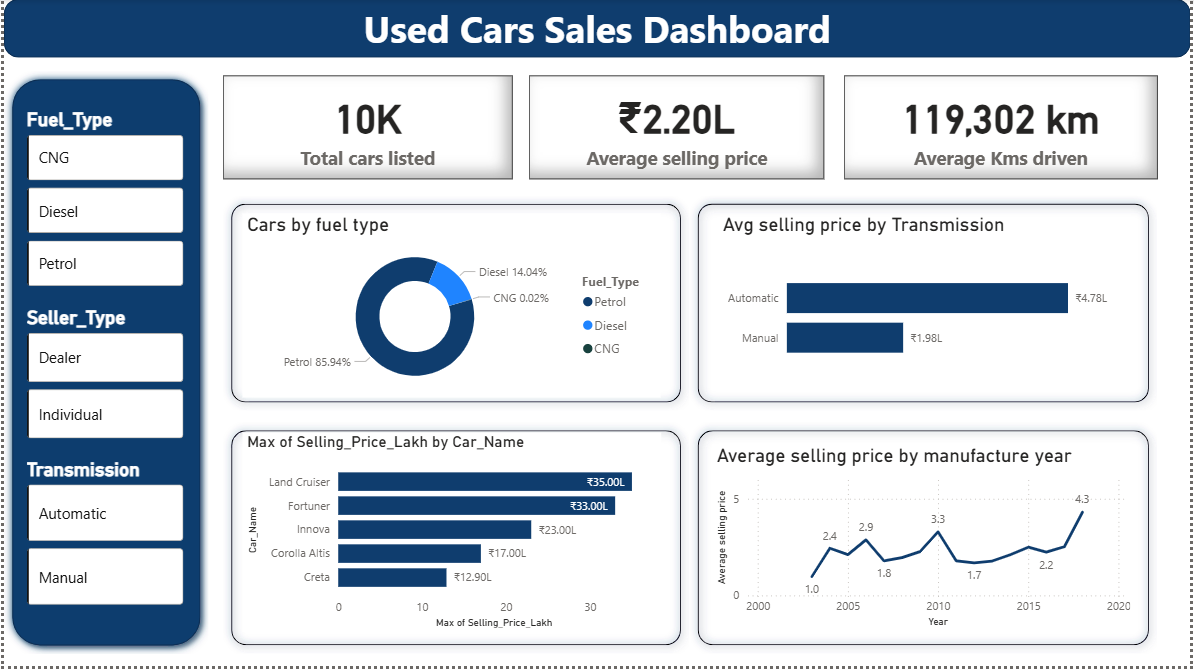

Layout of this report page (visuals, bound fields, positions):
{"tool":"powerbi","page":{"name":"Page 1","canvas":[1280,720],"ordinal":0},"visuals":[{"type":"shape","box":[0,0,1280.8,63.1],"z":0},{"type":"shape","box":[0,77.4,221,629],"z":1000},{"type":"shape","box":[237.1,456.5,503.2,250],"z":2000},{"type":"shape","box":[740.3,456.5,504.8,250],"z":3000},{"type":"shape","box":[237.1,212.9,503.2,232.3],"z":4000},{"type":"shape","box":[740.3,212.9,504.8,232.3],"z":5000},{"type":"card","fields":{"Values":["cars_updated_dataset.Total cars listed"]},"box":[236.4,82.6,312.5,111.7],"z":6000},{"type":"card","fields":{"Values":["cars_updated_dataset.Average Kms driven"]},"box":[906.8,82.6,338.4,111.7],"z":7000},{"type":"donutChart","title":"Cars by fuel type","fields":{"Y":["CountNonNull(cars_updated_dataset.Car_Name)"],"Category":["cars_updated_dataset.Fuel_Type"]},"box":[258.1,232.3,451.6,198.4],"z":8000},{"type":"card","fields":{"Values":["cars_updated_dataset.Average selling price"]},"box":[566.7,82.6,319,111.7],"z":9000},{"type":"lineChart","title":"Average selling price by manufacture year","fields":{"Category":["cars_updated_dataset.Manufacture_Year"],"Y":["Avg(cars_updated_dataset.Selling_Price_Lakh)"]},"box":[764.5,480.6,456.5,201.6],"z":10000},{"type":"advancedSlicerVisual","fields":{"Values":["cars_updated_dataset.Fuel_Type"]},"box":[19.4,117.7,179,198.4],"z":11000},{"type":"advancedSlicerVisual","fields":{"Values":["cars_updated_dataset.Seller_Type"]},"box":[19.4,332.3,179,148.4],"z":12000},{"type":"advancedSlicerVisual","fields":{"Values":["cars_updated_dataset.Transmission"]},"box":[19.4,495.2,179,164.5],"z":13000},{"type":"barChart","fields":{"Category":["cars_updated_dataset.Transmission"],"Y":["cars_updated_dataset.Avg selling price"]},"box":[771,232.3,474.2,195.2],"z":14000},{"type":"clusteredBarChart","fields":{"Y":["Max(cars_updated_dataset.Selling_Price_Lakh)"],"Category":["cars_updated_dataset.Car_Name"]},"box":[257.5,468,451.8,215.4],"z":15001}]}

Visuals, with their boxes in screenshot pixels (x1, y1, x2, y2), scaled from the page's 1280x720 canvas onto the 1194x669 screenshot:
shape: <bbox>0, 0, 1193, 59</bbox>
shape: <bbox>0, 72, 206, 656</bbox>
shape: <bbox>221, 424, 691, 656</bbox>
shape: <bbox>691, 424, 1161, 656</bbox>
shape: <bbox>221, 198, 691, 414</bbox>
shape: <bbox>691, 198, 1161, 414</bbox>
card - cars_updated_dataset.Total cars listed: <bbox>221, 77, 512, 181</bbox>
card - cars_updated_dataset.Average Kms driven: <bbox>846, 77, 1162, 181</bbox>
"Cars by fuel type" donutChart: <bbox>241, 216, 662, 400</bbox>
card - cars_updated_dataset.Average selling price: <bbox>529, 77, 826, 181</bbox>
"Average selling price by manufacture year" lineChart: <bbox>713, 447, 1139, 634</bbox>
advancedSlicerVisual - cars_updated_dataset.Fuel_Type: <bbox>18, 109, 185, 294</bbox>
advancedSlicerVisual - cars_updated_dataset.Seller_Type: <bbox>18, 309, 185, 447</bbox>
advancedSlicerVisual - cars_updated_dataset.Transmission: <bbox>18, 460, 185, 613</bbox>
barChart - cars_updated_dataset.Transmission x cars_updated_dataset.Avg selling price: <bbox>719, 216, 1162, 397</bbox>
clusteredBarChart - Max(cars_updated_dataset.Selling_Price_Lakh) x cars_updated_dataset.Car_Name: <bbox>240, 435, 662, 635</bbox>
